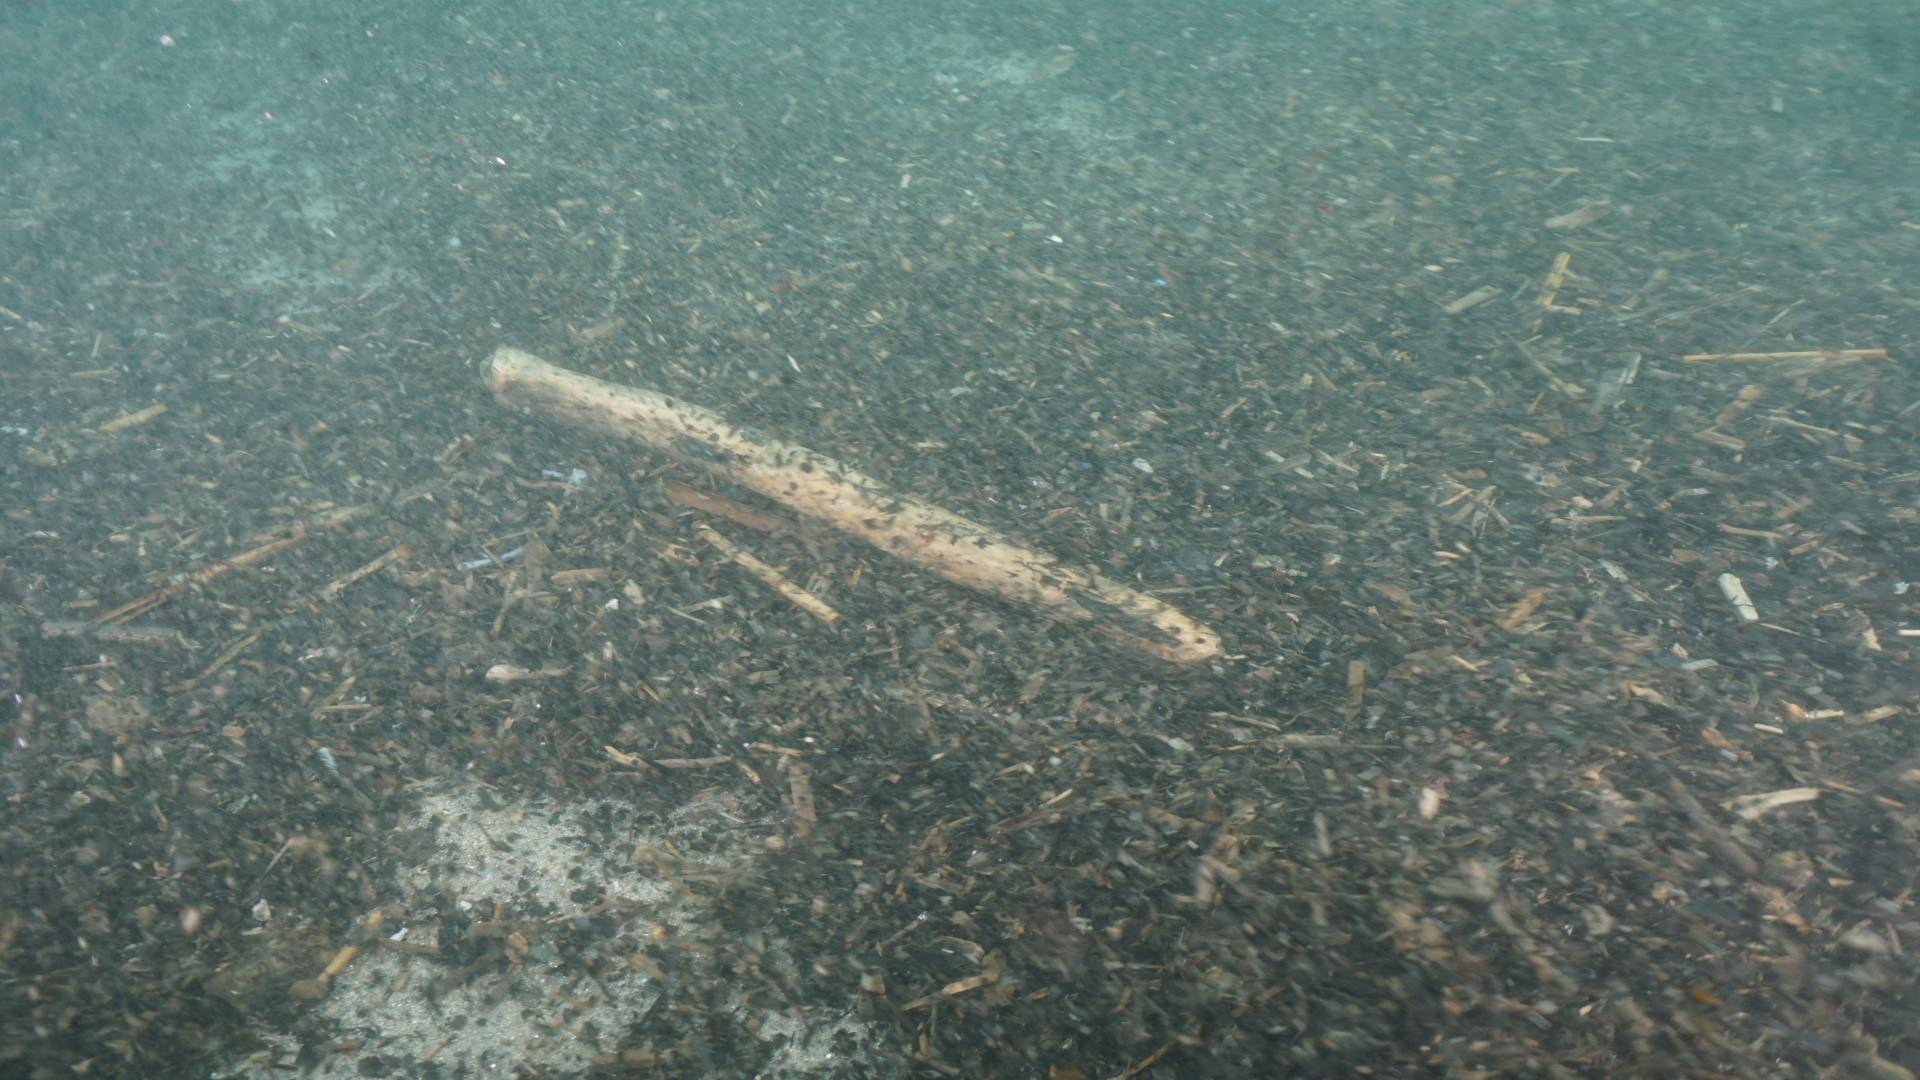wood: (477, 342, 1218, 665)
